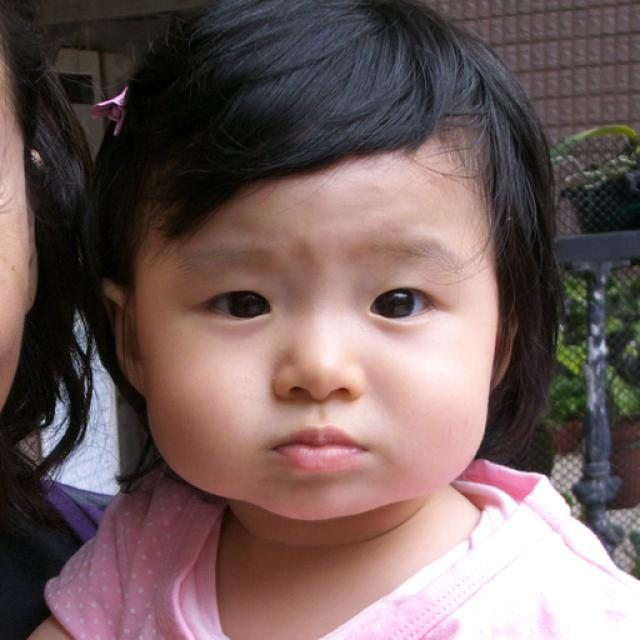sad: (132, 154, 496, 520)
